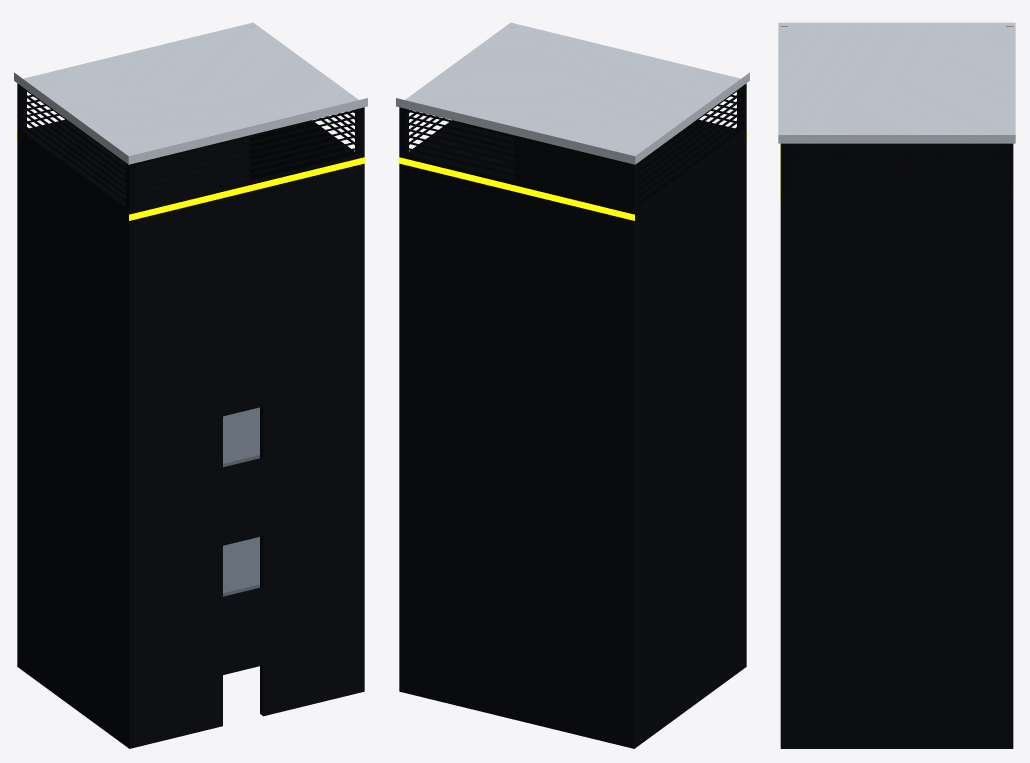
The model's file is tt_struct_plant_stack_m.glb.
3 views of the same model, side by side, from view 1: azimuth 30°, elevation 25°; view 2: azimuth 150°, elevation 25°; view 3: azimuth 270°, elevation 25° (orthographic). The views are drawn at different scales.
Visible parts, largest first — view 1: Stack_Walls, Cap_Slab, Louvre_Blades, Stack_Gratings, Hazard_Band; view 2: Stack_Walls, Cap_Slab, Louvre_Blades, Hazard_Band; view 3: Stack_Walls, Cap_Slab, Louvre_Blades.
Boxes of the visible parts, <box> form: Stack_Walls: <box>17,119,364,748</box>; Cap_Slab: <box>14,22,367,164</box>; Louvre_Blades: <box>17,83,364,209</box>; Stack_Gratings: <box>223,407,259,596</box>; Hazard_Band: <box>16,132,365,220</box>; Stack_Walls: <box>399,119,746,748</box>; Cap_Slab: <box>396,22,749,164</box>; Louvre_Blades: <box>399,83,746,209</box>; Hazard_Band: <box>398,132,747,220</box>; Stack_Walls: <box>780,143,1013,748</box>; Cap_Slab: <box>778,22,1015,143</box>; Louvre_Blades: <box>780,26,1013,190</box>.
Size of what is drawn, in the model's own units: 11.8 by 28 by 9.8.
Materials: 5 (4 with a texture image).
